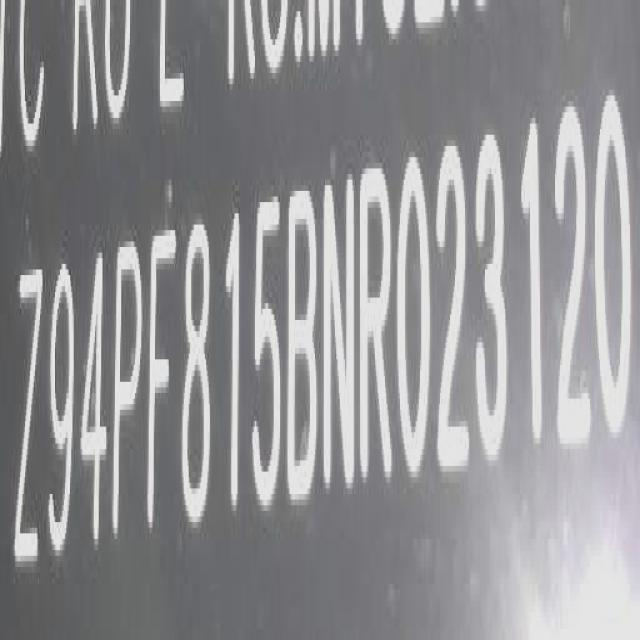0: (593, 80, 632, 456), (398, 143, 432, 489)
1: (520, 104, 544, 466), (224, 195, 243, 526)
2: (555, 89, 591, 459), (437, 140, 472, 486)
3: (474, 129, 510, 475)
4: (81, 242, 112, 552)
5: (254, 189, 284, 517)
8: (183, 213, 215, 535)
9: (50, 258, 78, 567)
B: (286, 177, 318, 508)
F: (144, 222, 180, 540)
N: (323, 171, 356, 503)
P: (114, 237, 144, 551)
R: (360, 158, 395, 496)
Z: (13, 257, 45, 577)
